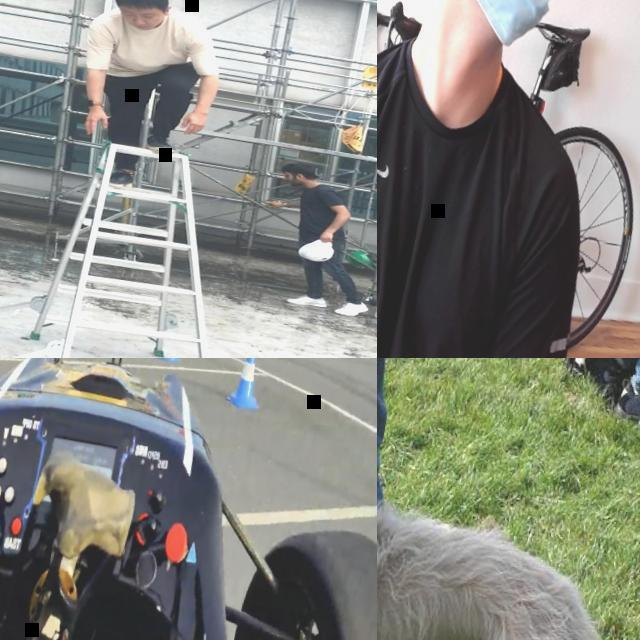helmet: (293, 235, 336, 268)
mask: (420, 0, 567, 48)
no_helmet: (109, 0, 173, 13), (279, 159, 317, 180)
no_mask: (122, 15, 164, 33), (284, 175, 304, 187)
no_vest: (377, 35, 565, 358), (98, 0, 202, 89), (294, 183, 348, 246)
person: (377, 0, 640, 358), (61, 0, 236, 202), (377, 358, 458, 640), (247, 157, 377, 319), (551, 358, 640, 442)
safety_cone: (227, 358, 270, 410)
vehicle: (0, 358, 377, 640)
